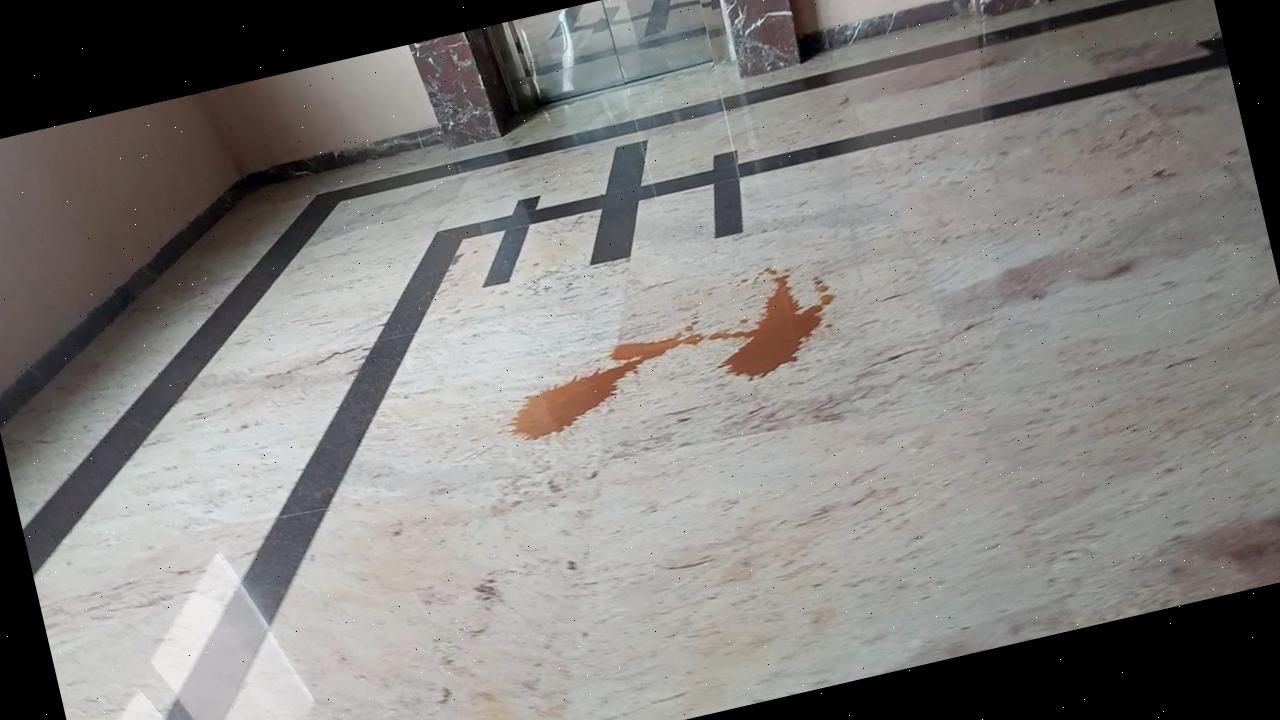dirty_floor: (488, 247, 850, 450)
